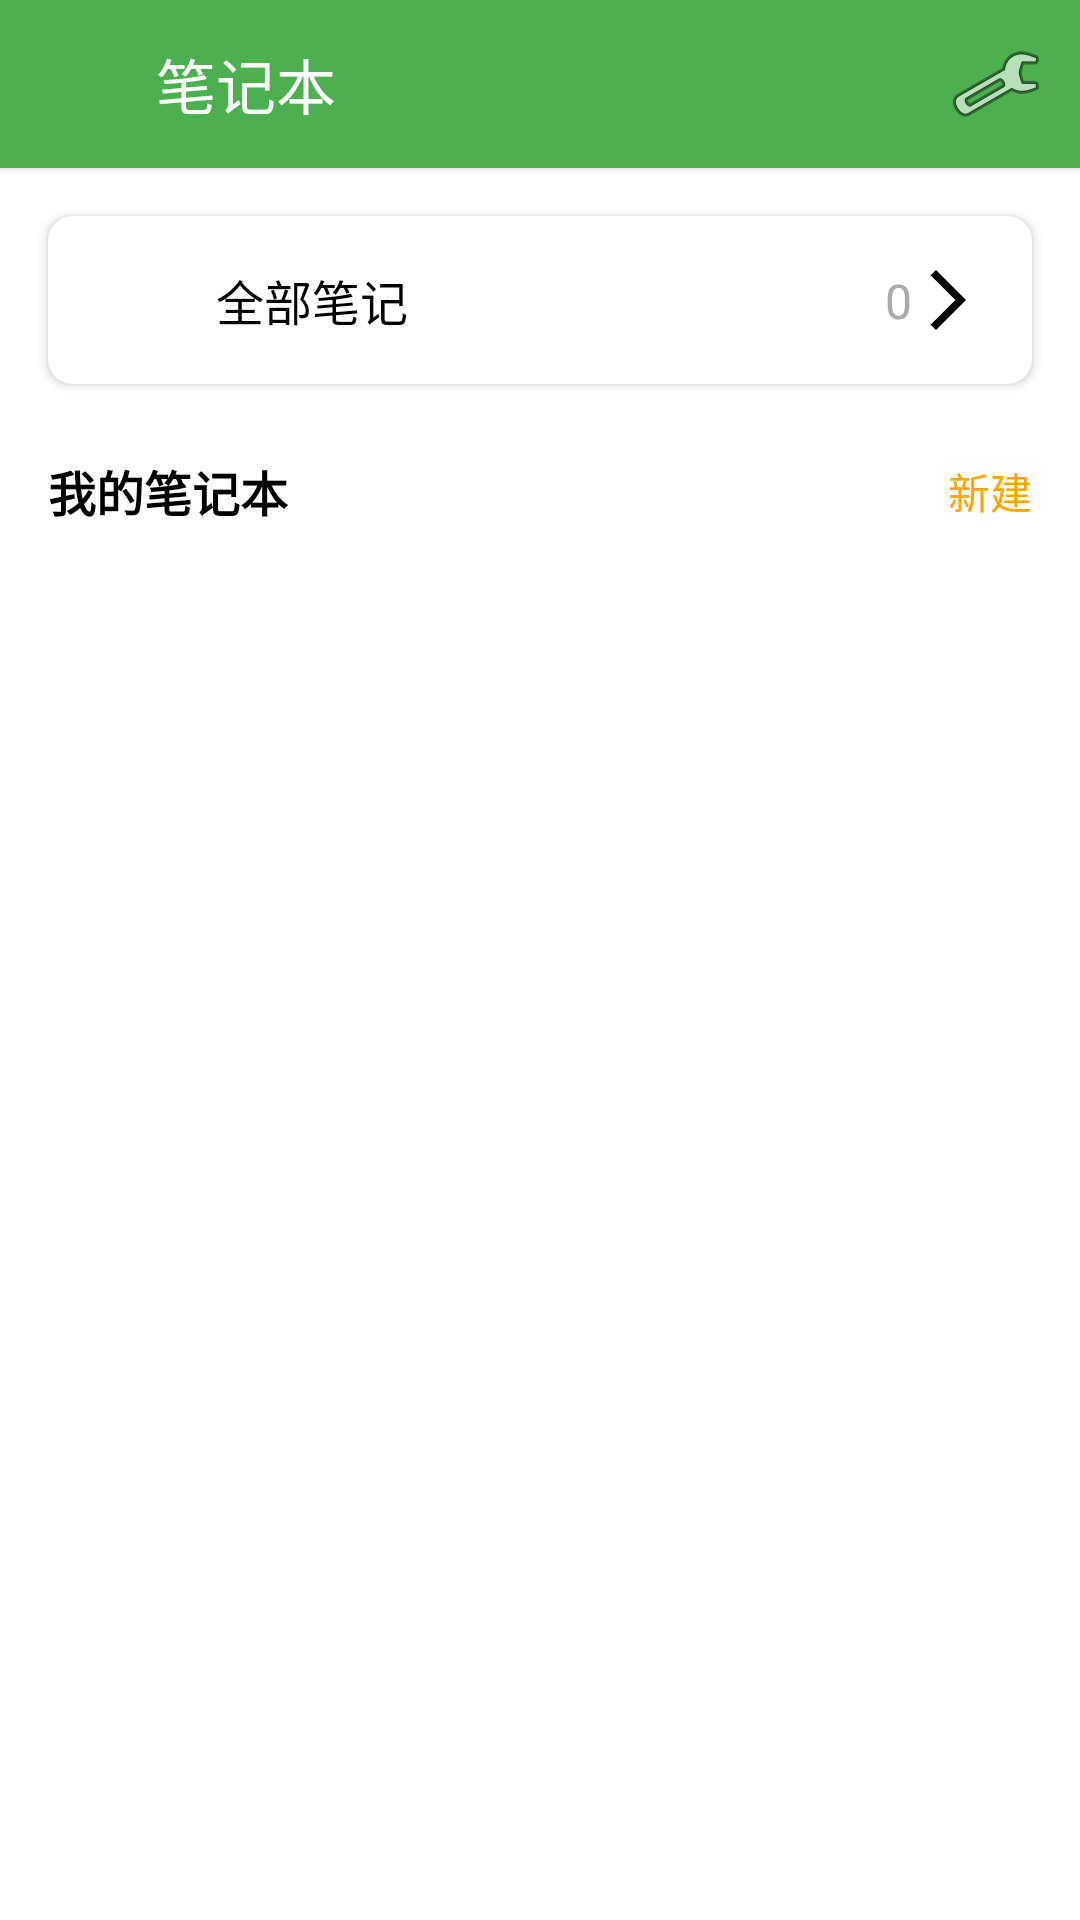

Icon click points for this 1080*1920 phone screenshot, format point (x, y):
arrow right: point (948, 300)
manage: point (996, 84)
